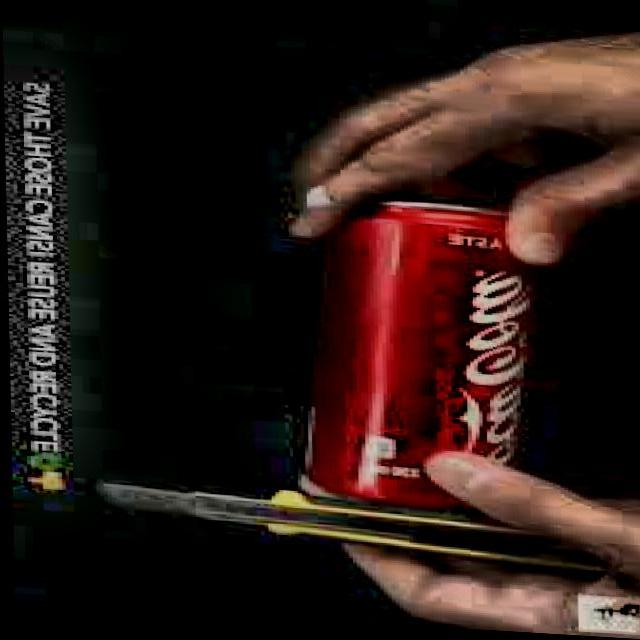Aluminum Can: (283, 194, 543, 531)
